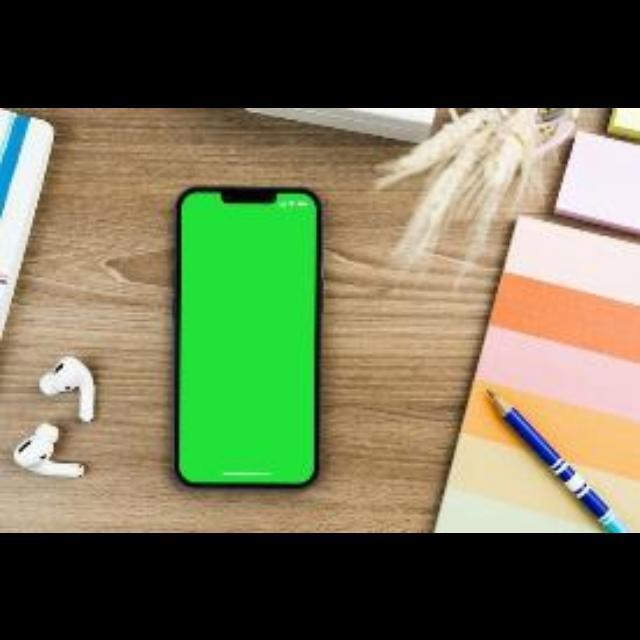PhoneUse: (172, 184, 322, 491)
